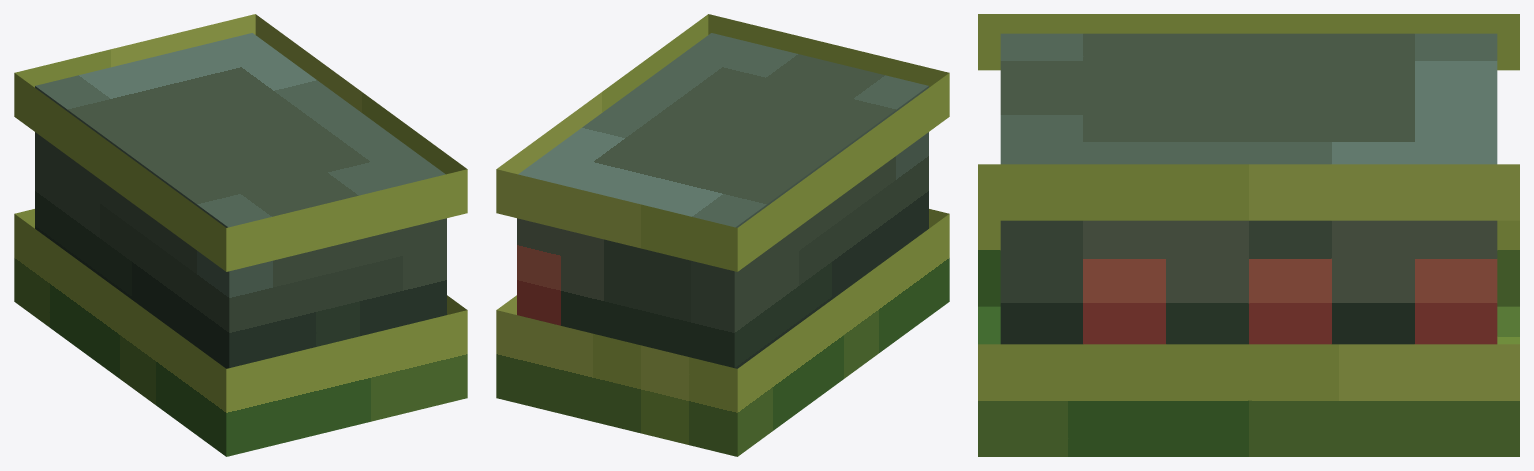
The model's file is rightFootSlot.gltf.
3 renders of one model, left to right at view 1: azimuth 30°, elevation 25°; view 2: azimuth 150°, elevation 25°; view 3: azimuth 270°, elevation 25°, orthographic. The views are drawn at different scales.
Parts seen in each view (by area): view 1: arcaneboot; view 2: arcaneboot; view 3: arcaneboot.
Boxes of the visible parts, <box> form: arcaneboot: <box>14,14,467,456</box>; arcaneboot: <box>496,14,949,456</box>; arcaneboot: <box>978,14,1519,456</box>.
Bounding box in the file's own units: 0.4063 × 0.3688 × 0.6187.
Materials: 1 (1 with a texture image).
